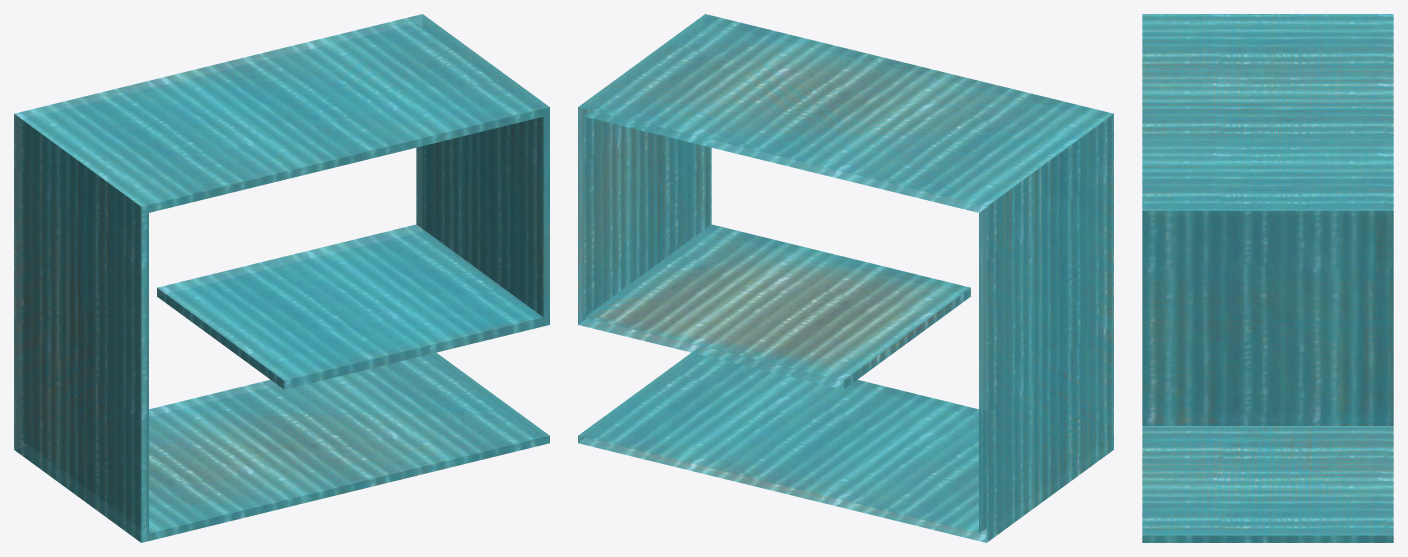
File: Kitchen_GlassShelf.fbx
3 views of the same model, side by side, from view 1: azimuth 30°, elevation 25°; view 2: azimuth 150°, elevation 25°; view 3: azimuth 270°, elevation 25° (orthographic).
Parts seen in each view (by area): view 1: Group1; view 2: Group1; view 3: Group1.
Boxes of the visible parts, left/top/right/bottom form: Group1: left=14, top=14, right=549, bottom=542; Group1: left=578, top=14, right=1113, bottom=542; Group1: left=1142, top=14, right=1393, bottom=542.
Bounding box in the file's own units: 33.83 × 26.6 × 18.25.
